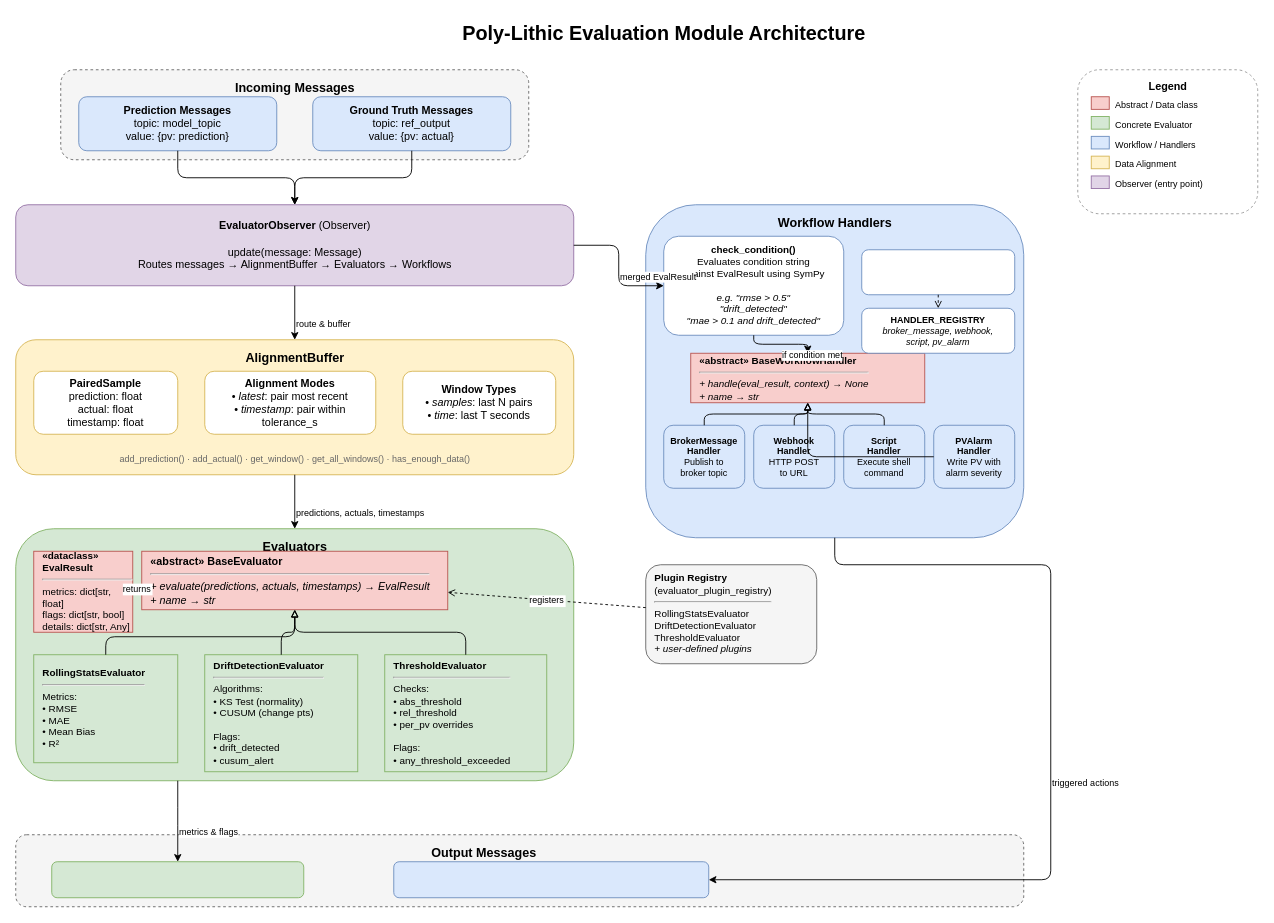
The diagram is 1274 pixels wide and 923 high, and some of its shapes have lost their labels. The box of each missing label's shape, as (x1, y1, x2, y2) in pixels:
build_handlers() → list[(condition, handler)]: (861, 249, 1015, 295)
Evaluation Results topic: eval_results value: {metric: {value: val}, ...}: (51, 861, 304, 898)
Triggered Workflow Messages broker messages · webhooks · scripts · PV alarms: (393, 861, 709, 898)
